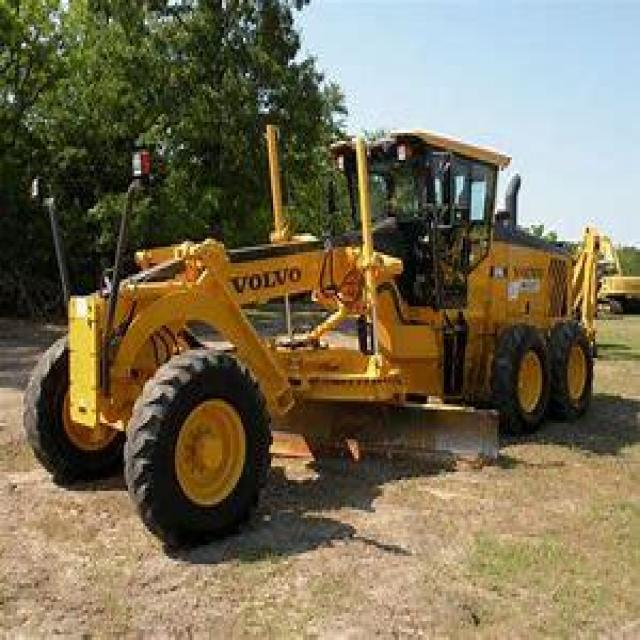Grader: (32, 117, 610, 537)
